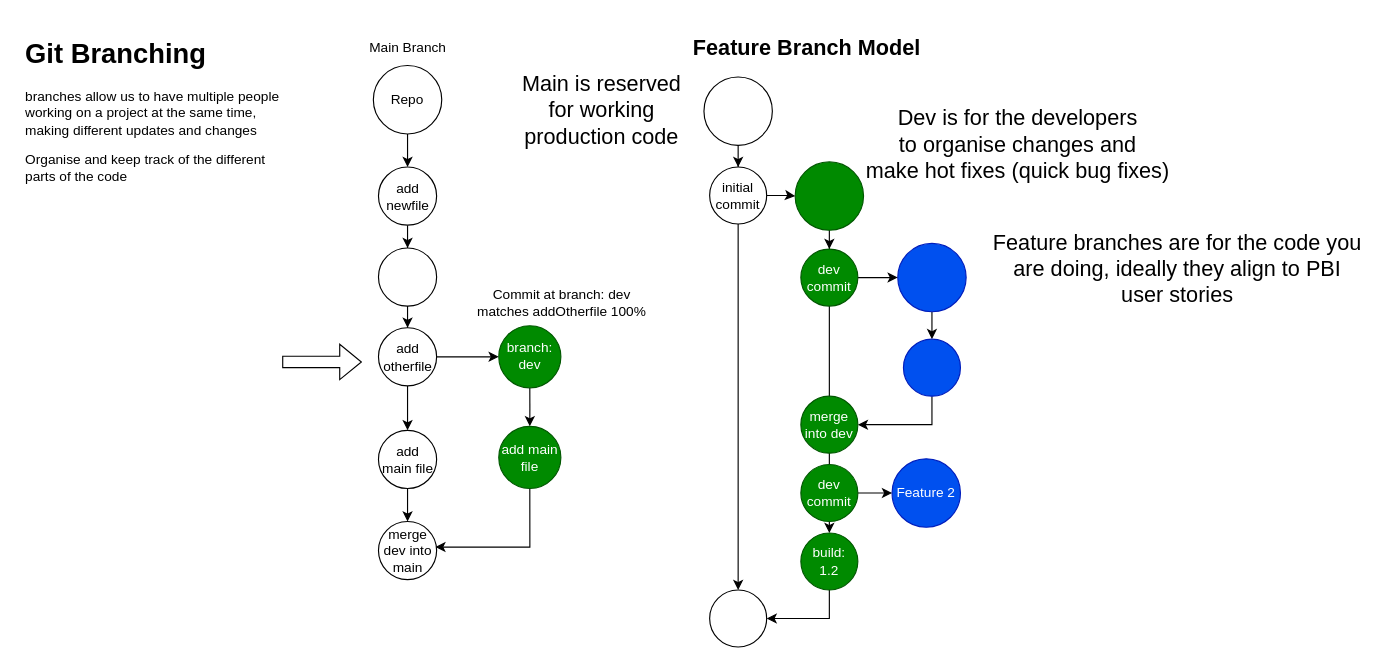
Some shapes in this 1395 by 667 pixel diagram are drawn without their labels. The shapes that lost their labels are listed below. From the top down, each one's box as (x1, y1, x2, y2) in pixels, then its label:
(703, 76, 772, 145): Main
(794, 161, 864, 230): Dev
(377, 247, 437, 306): change newfile
(897, 242, 966, 312): Feature 1
(902, 338, 960, 396): add button
(709, 589, 767, 647): merge into main
